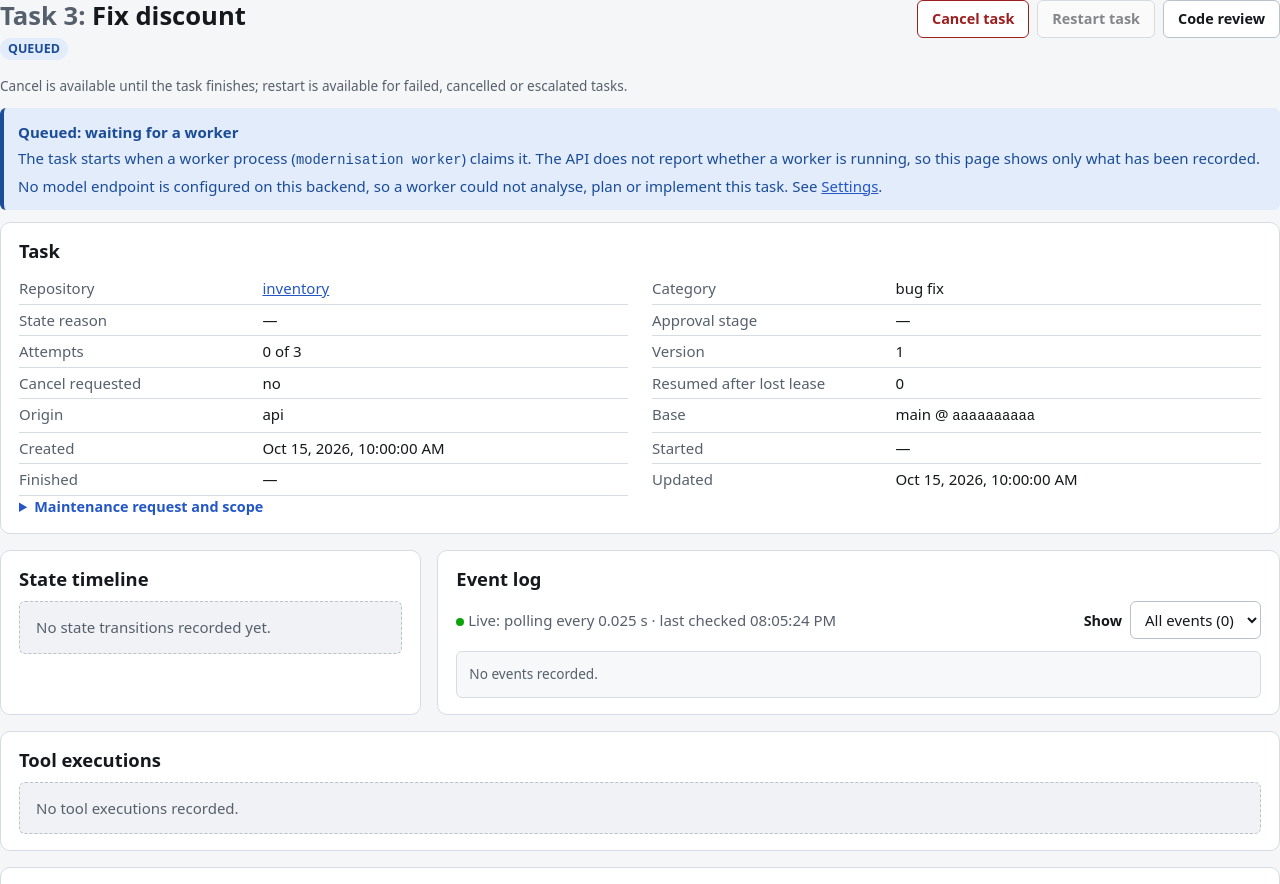
Test: TaskMonitorPage › enables Cancel only for unfinished tasks and Restart only for restartable ones
Check: the button "Restart task" is disabled, box [1037,0,1155,38]
Check: the text "Queued: waiting for a worker" is shown, box [18,122,238,142]
Click the button "Cancel task" at (973, 19), box [917,0,1029,38]
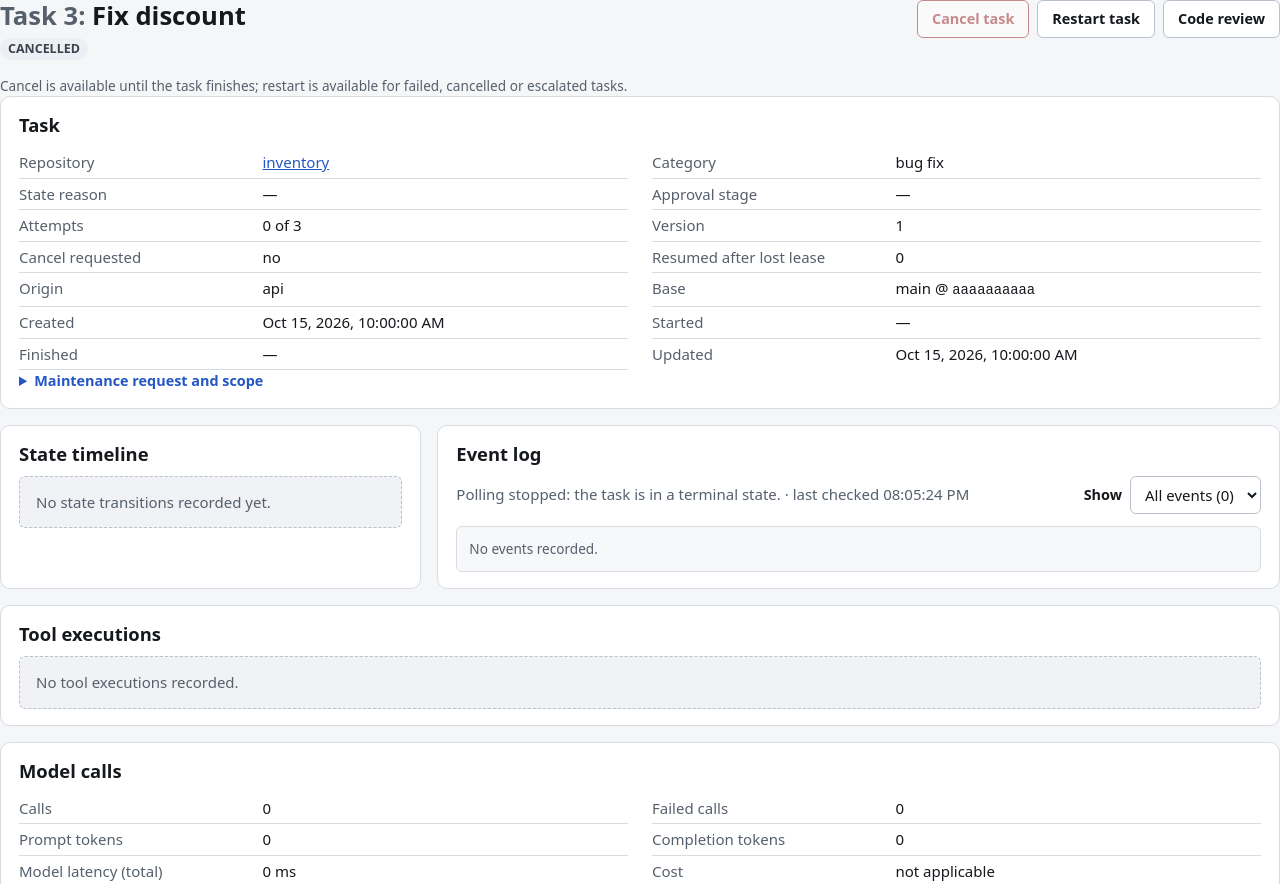
Check: the button "Restart task" is enabled
Check: the button "Cancel task" is disabled, box [917,0,1029,38]
Click the button "Restart task" at (1096, 19), box [1037,0,1155,38]
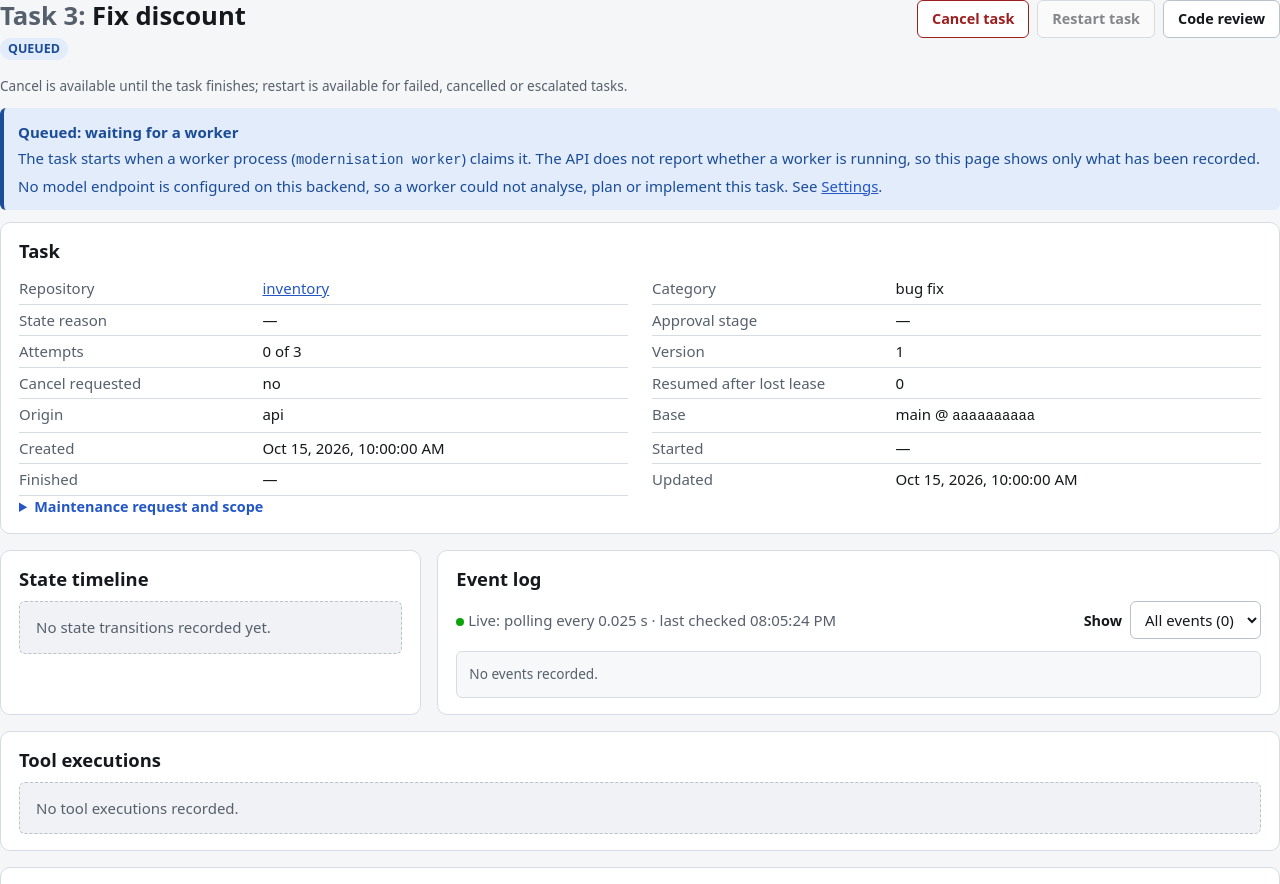
Check: the button "Cancel task" is enabled, box [917,0,1029,38]
